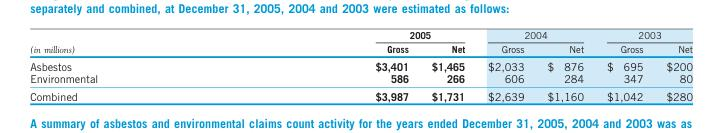table: (29, 29, 692, 102)
table column: (29, 29, 236, 102), (236, 29, 419, 102), (475, 29, 535, 102), (594, 29, 654, 102), (535, 29, 594, 102), (419, 29, 475, 102), (654, 29, 692, 102)
table column header: (29, 29, 692, 56)
table row: (29, 56, 692, 72), (29, 41, 692, 56), (29, 72, 692, 87), (29, 87, 692, 102), (29, 29, 692, 41)
table spanning cell: (29, 29, 236, 56), (236, 29, 475, 41), (475, 29, 594, 41), (594, 29, 692, 41)
